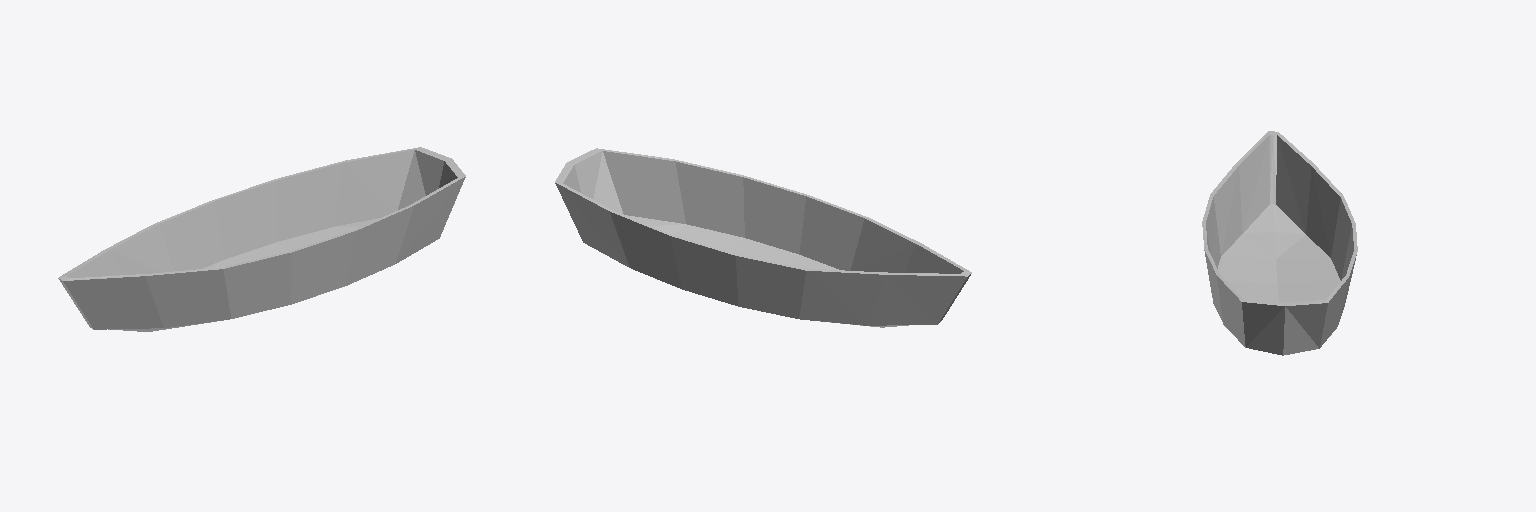
The model's file is boat.obj.
The picture shows the model from 3 angles: view 1: azimuth 30°, elevation 25°; view 2: azimuth 150°, elevation 25°; view 3: azimuth 270°, elevation 25°; orthographic projection.
Visible parts, largest first — view 1: Cube.011; view 2: Cube.011; view 3: Cube.011.
Boxes of the visible parts, x1,y1,x2,y2 form: Cube.011: [58, 147, 465, 331]; Cube.011: [555, 148, 971, 327]; Cube.011: [1202, 131, 1357, 355].
Size of the model in its own units: 8.94 by 2.03 by 3.03.